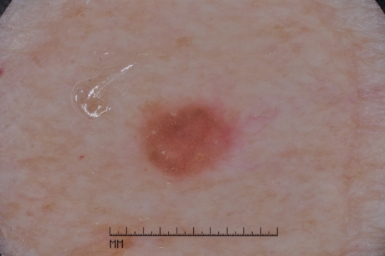seborrheic keratosis: (127, 83, 253, 190)
